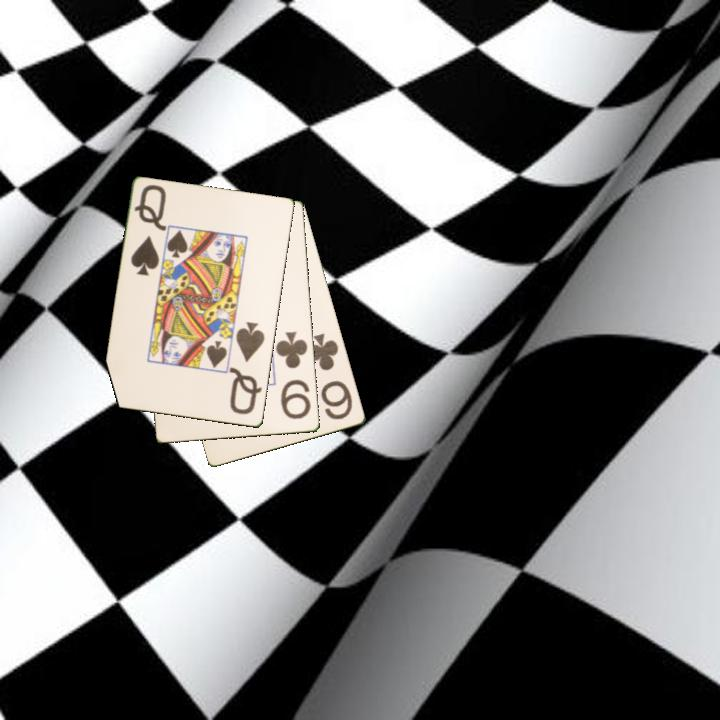6c: (304, 330, 356, 423)
9c: (272, 328, 314, 422)
Qs: (226, 319, 268, 418), (127, 181, 169, 279)
